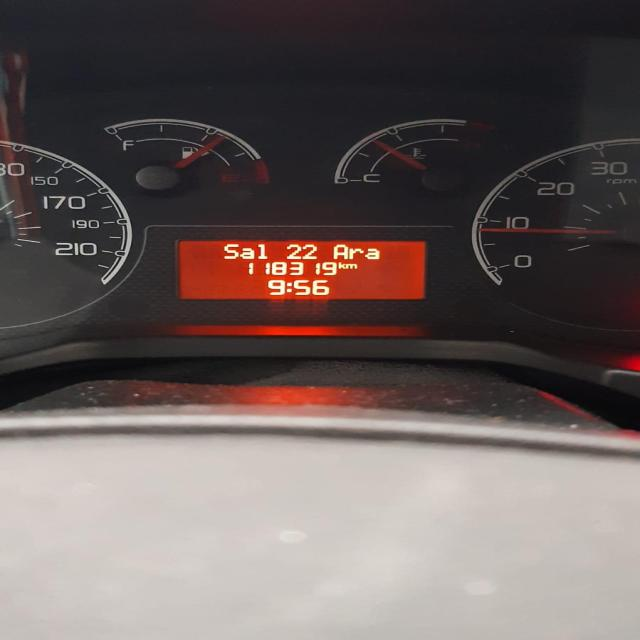odometer: (173, 238, 429, 301)
